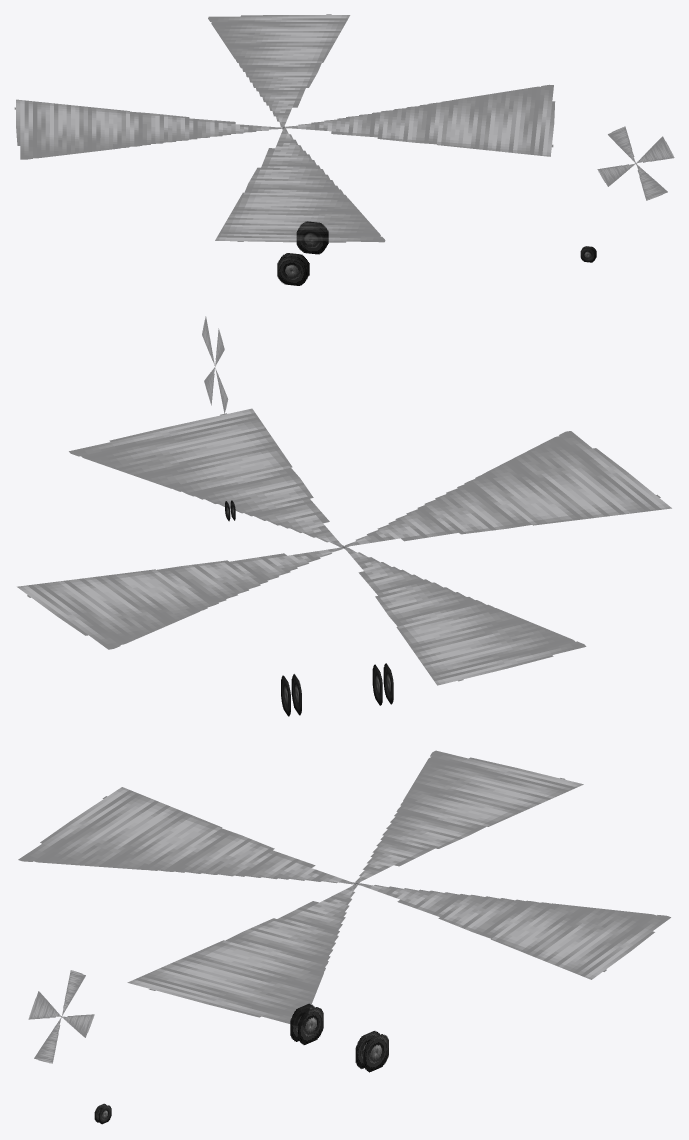
Rendered from helicopter_secondary.glb.
3 views of the same model, one above another, from view 1: azimuth 30°, elevation 25°; view 2: azimuth 150°, elevation 25°; view 3: azimuth 270°, elevation 25° (orthographic). The views are drawn at different scales.
Visible parts, largest first — view 1: Object; view 2: Object; view 3: Object.
Part boxes in pixels (bbox=[...]): Object: bbox=[14, 14, 674, 285]; Object: bbox=[17, 316, 671, 716]; Object: bbox=[18, 750, 670, 1124].
Bounding box in the file's own units: 11.92 × 4.07 × 11.83.
Materials: 2 (2 with a texture image).
